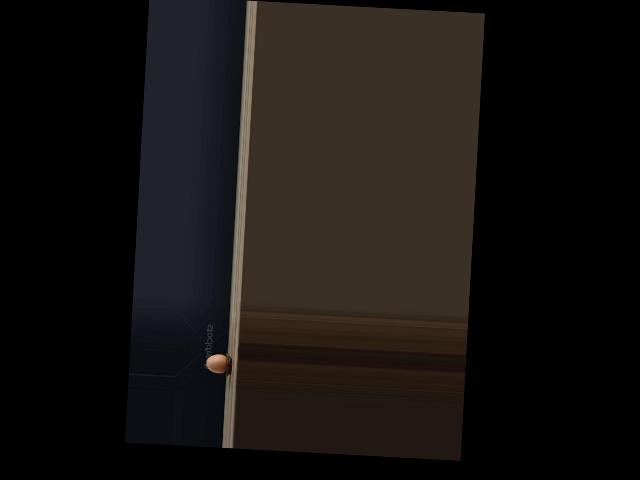egg: (206, 354, 227, 374)
